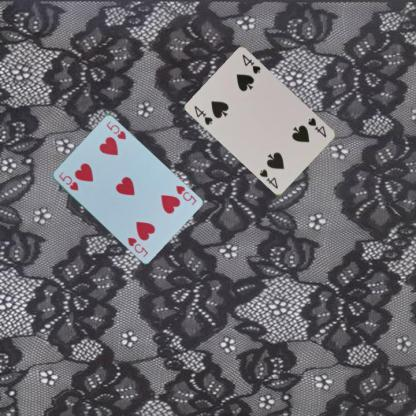4s: (306, 116, 328, 139), (192, 103, 214, 126)
5h: (173, 182, 196, 206), (56, 169, 79, 192)
